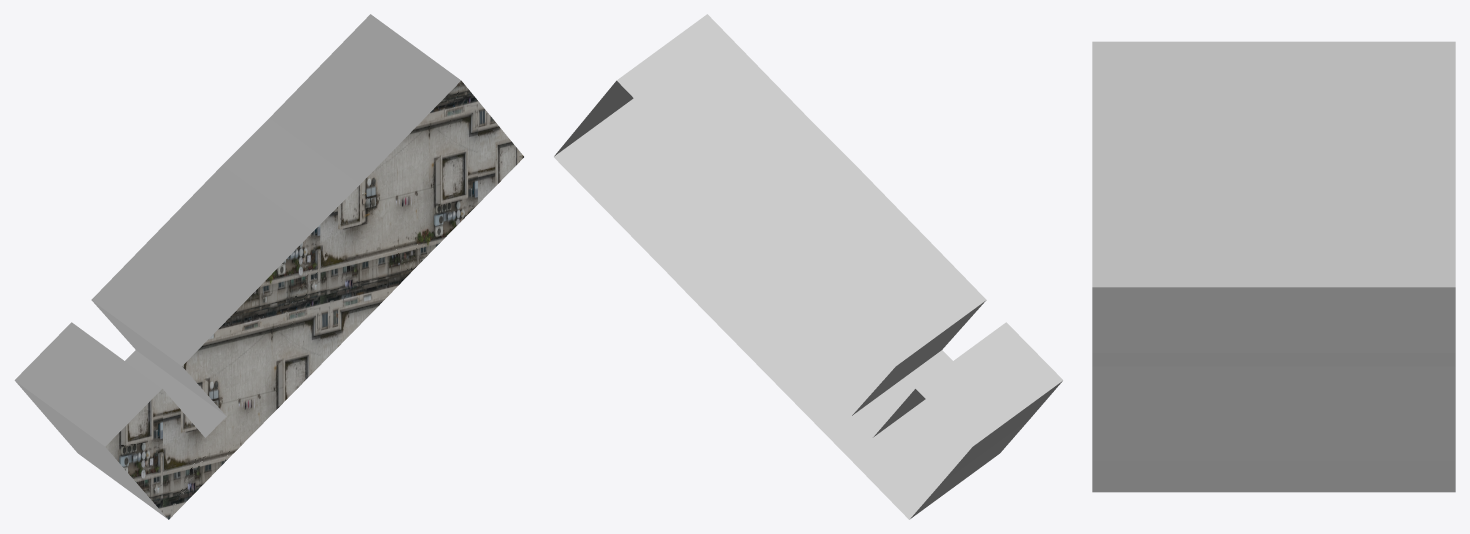
The model's file is geospecific_1692.obj.
3 renders of one model, left to right at view 1: azimuth 30°, elevation 25°; view 2: azimuth 150°, elevation 25°; view 3: azimuth 270°, elevation 25°, orthographic. The views are drawn at different scales.
Parts seen in each view (by area): view 1: Building; view 2: Building; view 3: Building.
Part boxes in pixels (bbox=[...]): Building: bbox=[14, 14, 523, 519]; Building: bbox=[554, 14, 1063, 519]; Building: bbox=[1092, 41, 1455, 492].
Size of the model in its own units: 23.98 by 20.12 by 9.
